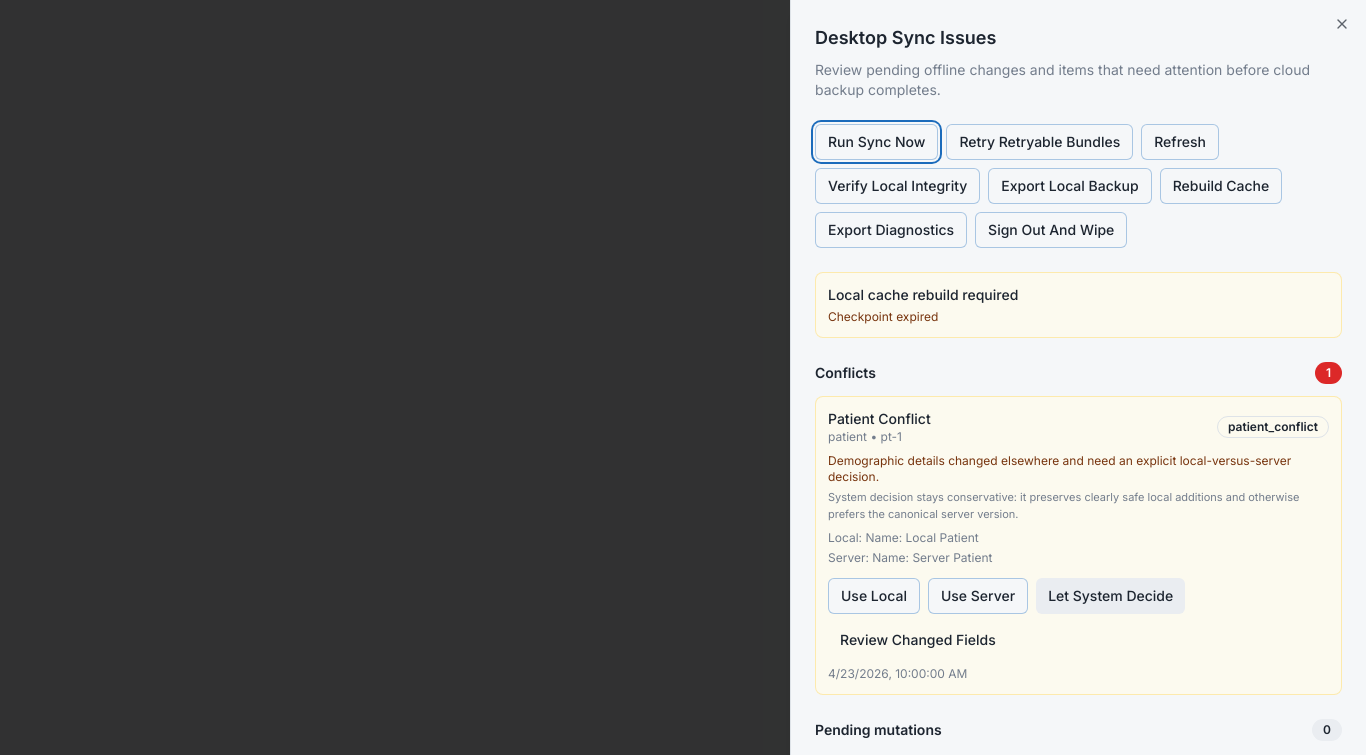
Scenario: desktop phase 1 UI states › opens a conflict details review dialog with local and server snapshots
The image size is (1366, 755).
Step 1. Click the button "Review Changed Fields" → point(918, 640), box x1=828 y1=622 x2=1008 y2=658
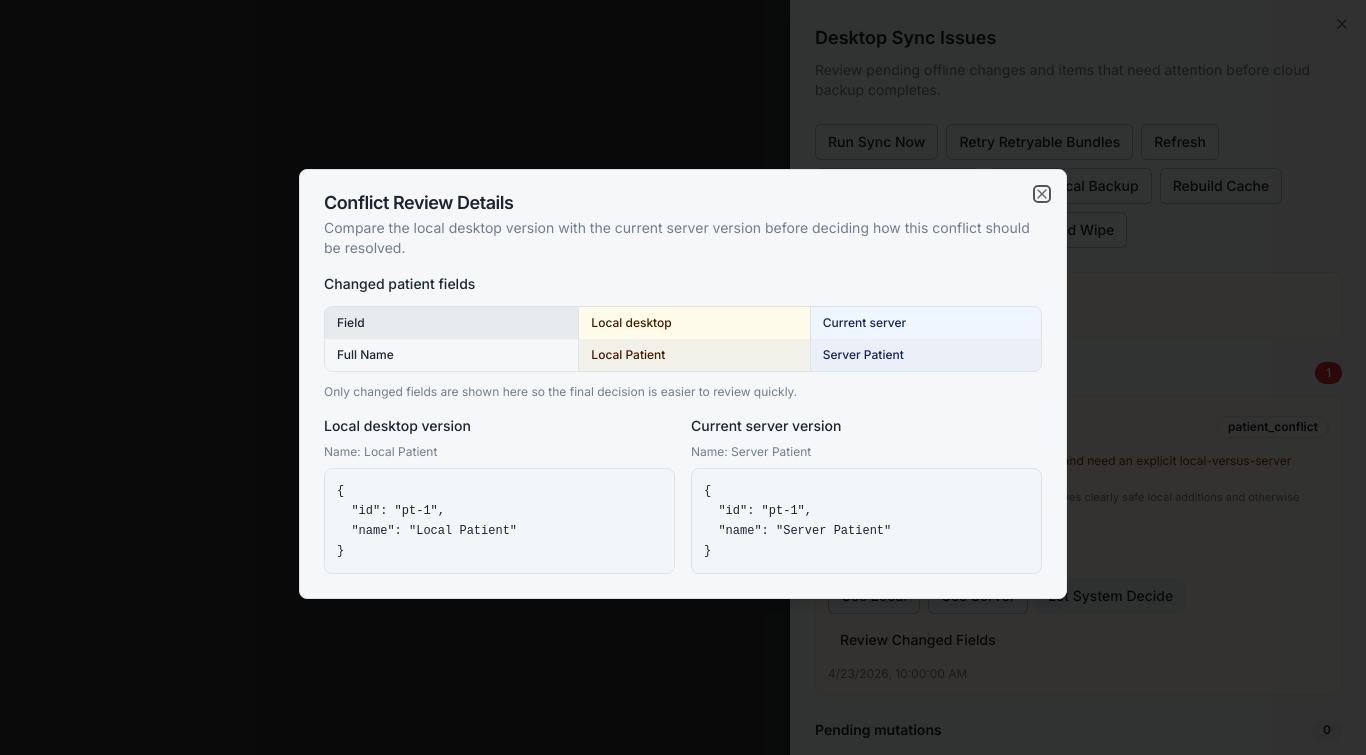
Expected: the heading "Conflict Review Details" is shown, x1=324 y1=192 x2=514 y2=213
Expected: the text "current server version" is shown, x1=324 y1=219 x2=1030 y2=256
Expected: the text "Full Name" is shown, x1=325 y1=339 x2=578 y2=371
